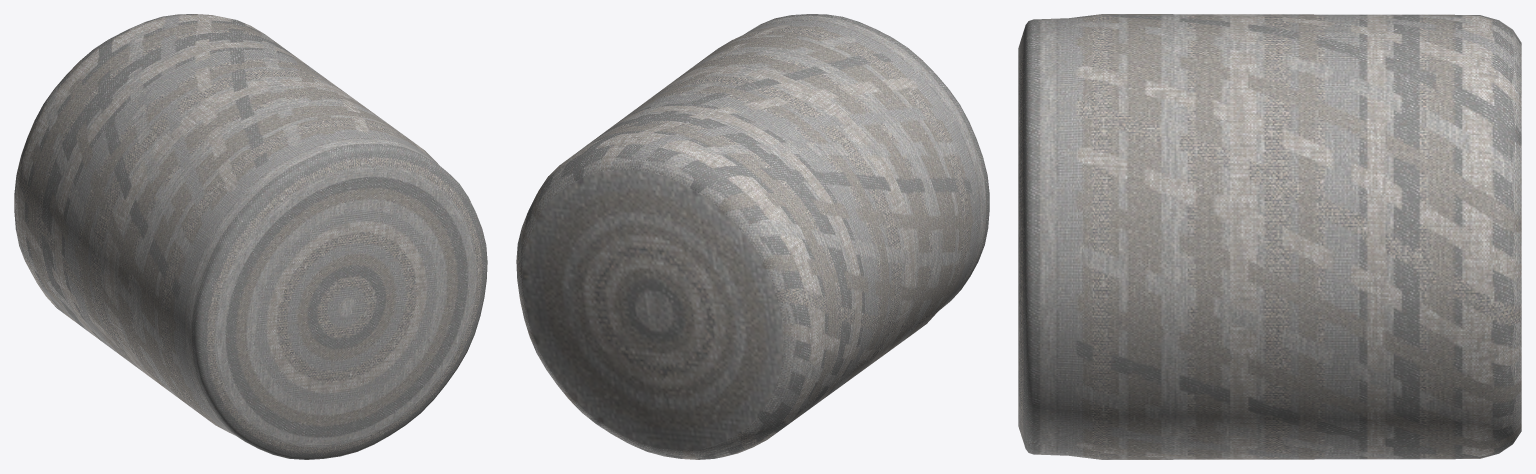
File: Basket.gltf
The picture shows the model from 3 angles, left to right: view 1: azimuth 30°, elevation 25°; view 2: azimuth 150°, elevation 25°; view 3: azimuth 270°, elevation 25°; orthographic projection. The views are drawn at different scales.
Parts seen in each view (by area): view 1: [BuildingBlock] Basket Bedroom; view 2: [BuildingBlock] Basket Bedroom; view 3: [BuildingBlock] Basket Bedroom.
Boxes of the visible parts, x1,y1,x2,y2 form: [BuildingBlock] Basket Bedroom: [14, 14, 487, 459]; [BuildingBlock] Basket Bedroom: [516, 14, 989, 459]; [BuildingBlock] Basket Bedroom: [1018, 14, 1521, 459].
Size of the model in its own units: 0.3666 by 0.3677 by 0.4152.
Materials: 1 (1 with a texture image).
